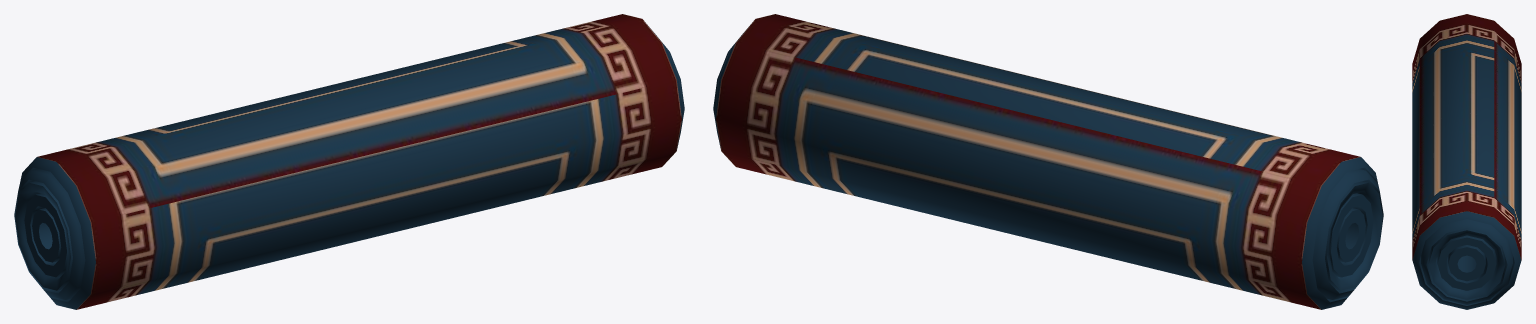
File: SM_carpet_rool_01.glb
The picture shows the model from 3 angles, left to right: view 1: azimuth 30°, elevation 25°; view 2: azimuth 150°, elevation 25°; view 3: azimuth 270°, elevation 25°; orthographic projection. The views are drawn at different scales.
Parts seen in each view (by area): view 1: SM_carpet_rool_01; view 2: SM_carpet_rool_01; view 3: SM_carpet_rool_01.
Part boxes in pixels (box(x1,y1,x2,y2)): SM_carpet_rool_01: box(14, 14, 684, 309); SM_carpet_rool_01: box(713, 14, 1383, 309); SM_carpet_rool_01: box(1412, 14, 1521, 309).
Bounding box in the file's own units: 2.58 × 0.5762 × 0.5762.
Materials: 1 (1 with a texture image).
